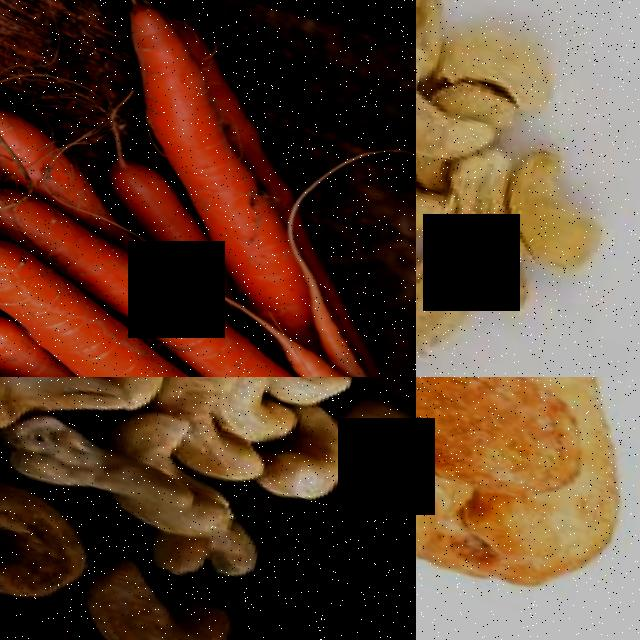carrot: (89, 5, 268, 242), (43, 340, 268, 377)
cashew: (482, 139, 640, 328), (0, 409, 183, 549), (416, 225, 544, 377), (0, 462, 110, 620), (416, 377, 600, 469), (80, 558, 262, 640), (416, 415, 478, 640), (0, 377, 126, 483), (253, 416, 353, 528), (324, 393, 416, 510), (162, 408, 263, 490), (416, 62, 474, 192)
